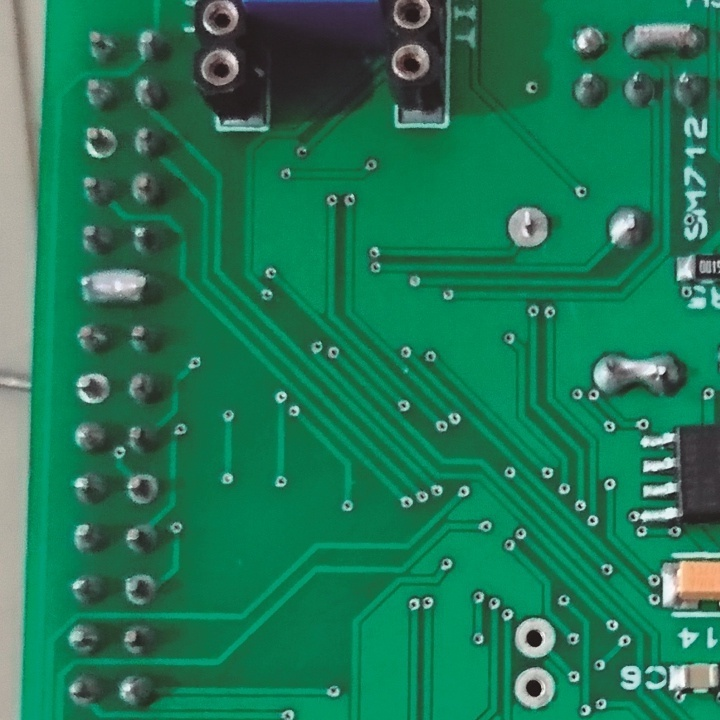F: (505, 200, 555, 253), (511, 667, 559, 712), (512, 618, 559, 661), (81, 121, 119, 161), (124, 470, 159, 510), (72, 369, 111, 404), (121, 572, 160, 606)
P: (590, 349, 687, 400), (73, 266, 159, 310), (622, 21, 710, 63)
